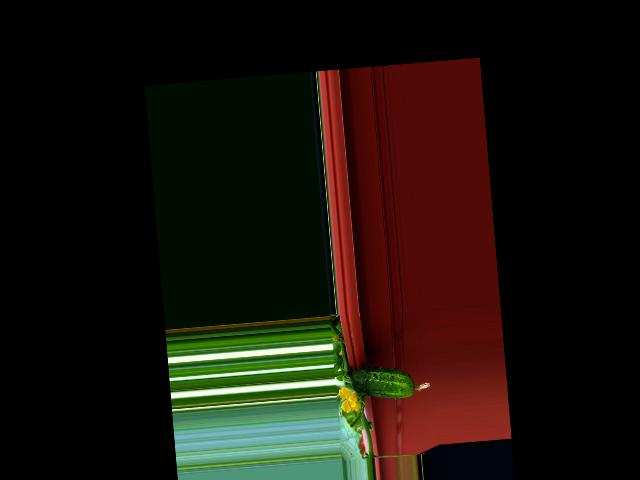cucumber: (350, 362, 431, 402)
